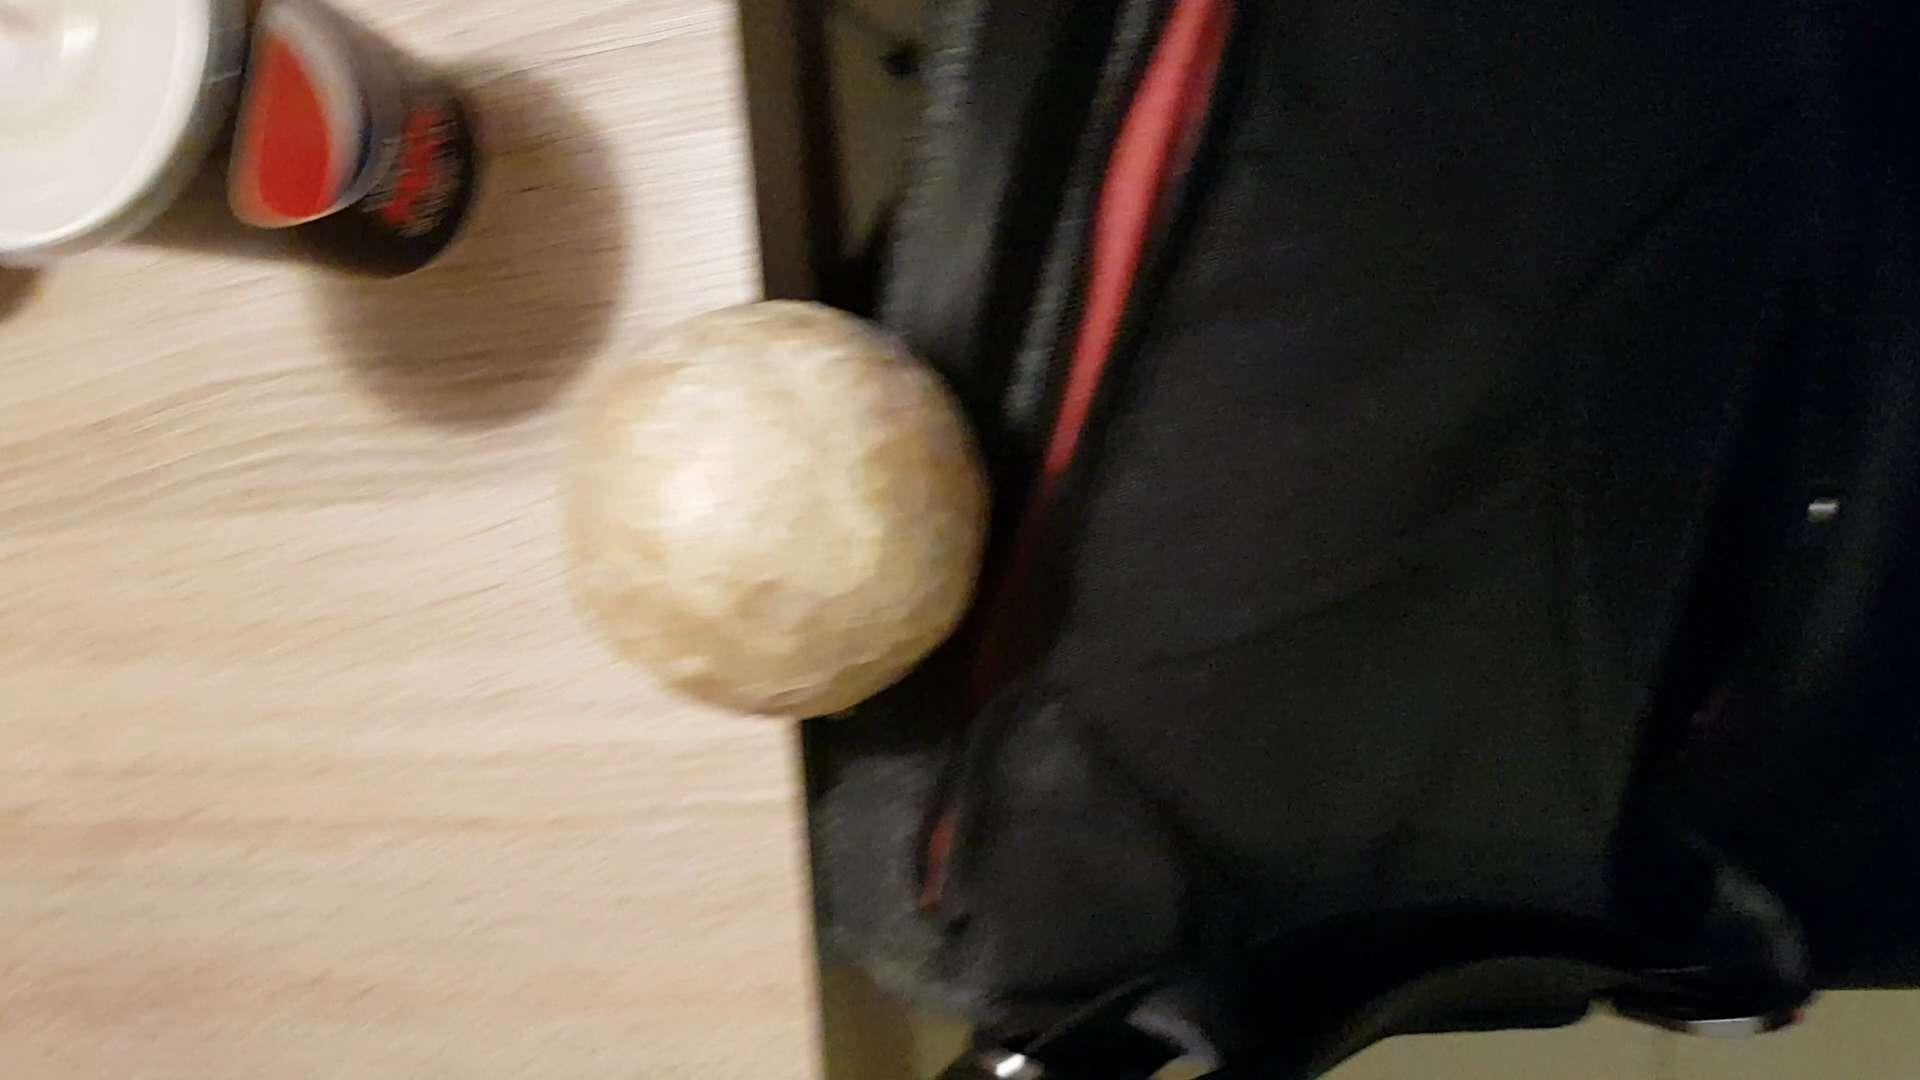Sphere: (560, 293, 988, 727)
